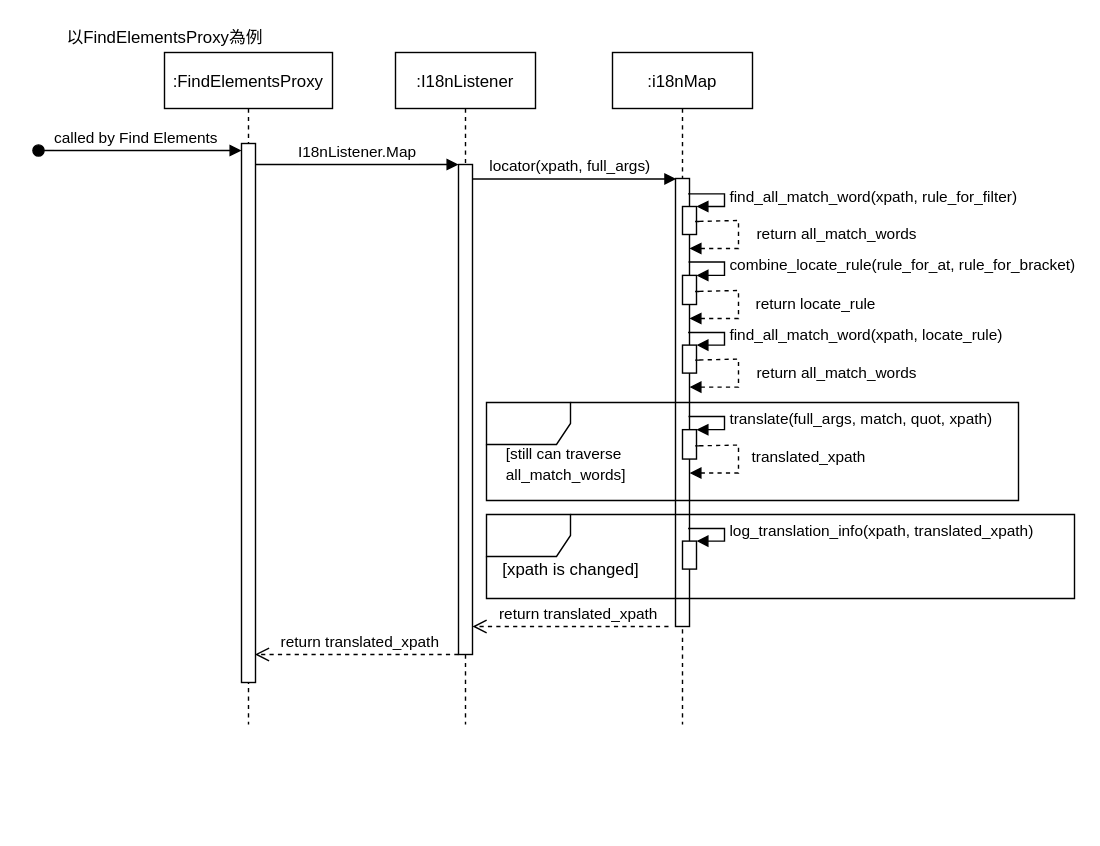
Some shapes in this 1100 by 846 pixel diagram are drawn without their labels. The box of each missing label's shape, as (x1, y1, x2, y2) in pixels:
loop: (485, 401, 1018, 500)
opt: (485, 513, 1074, 598)
